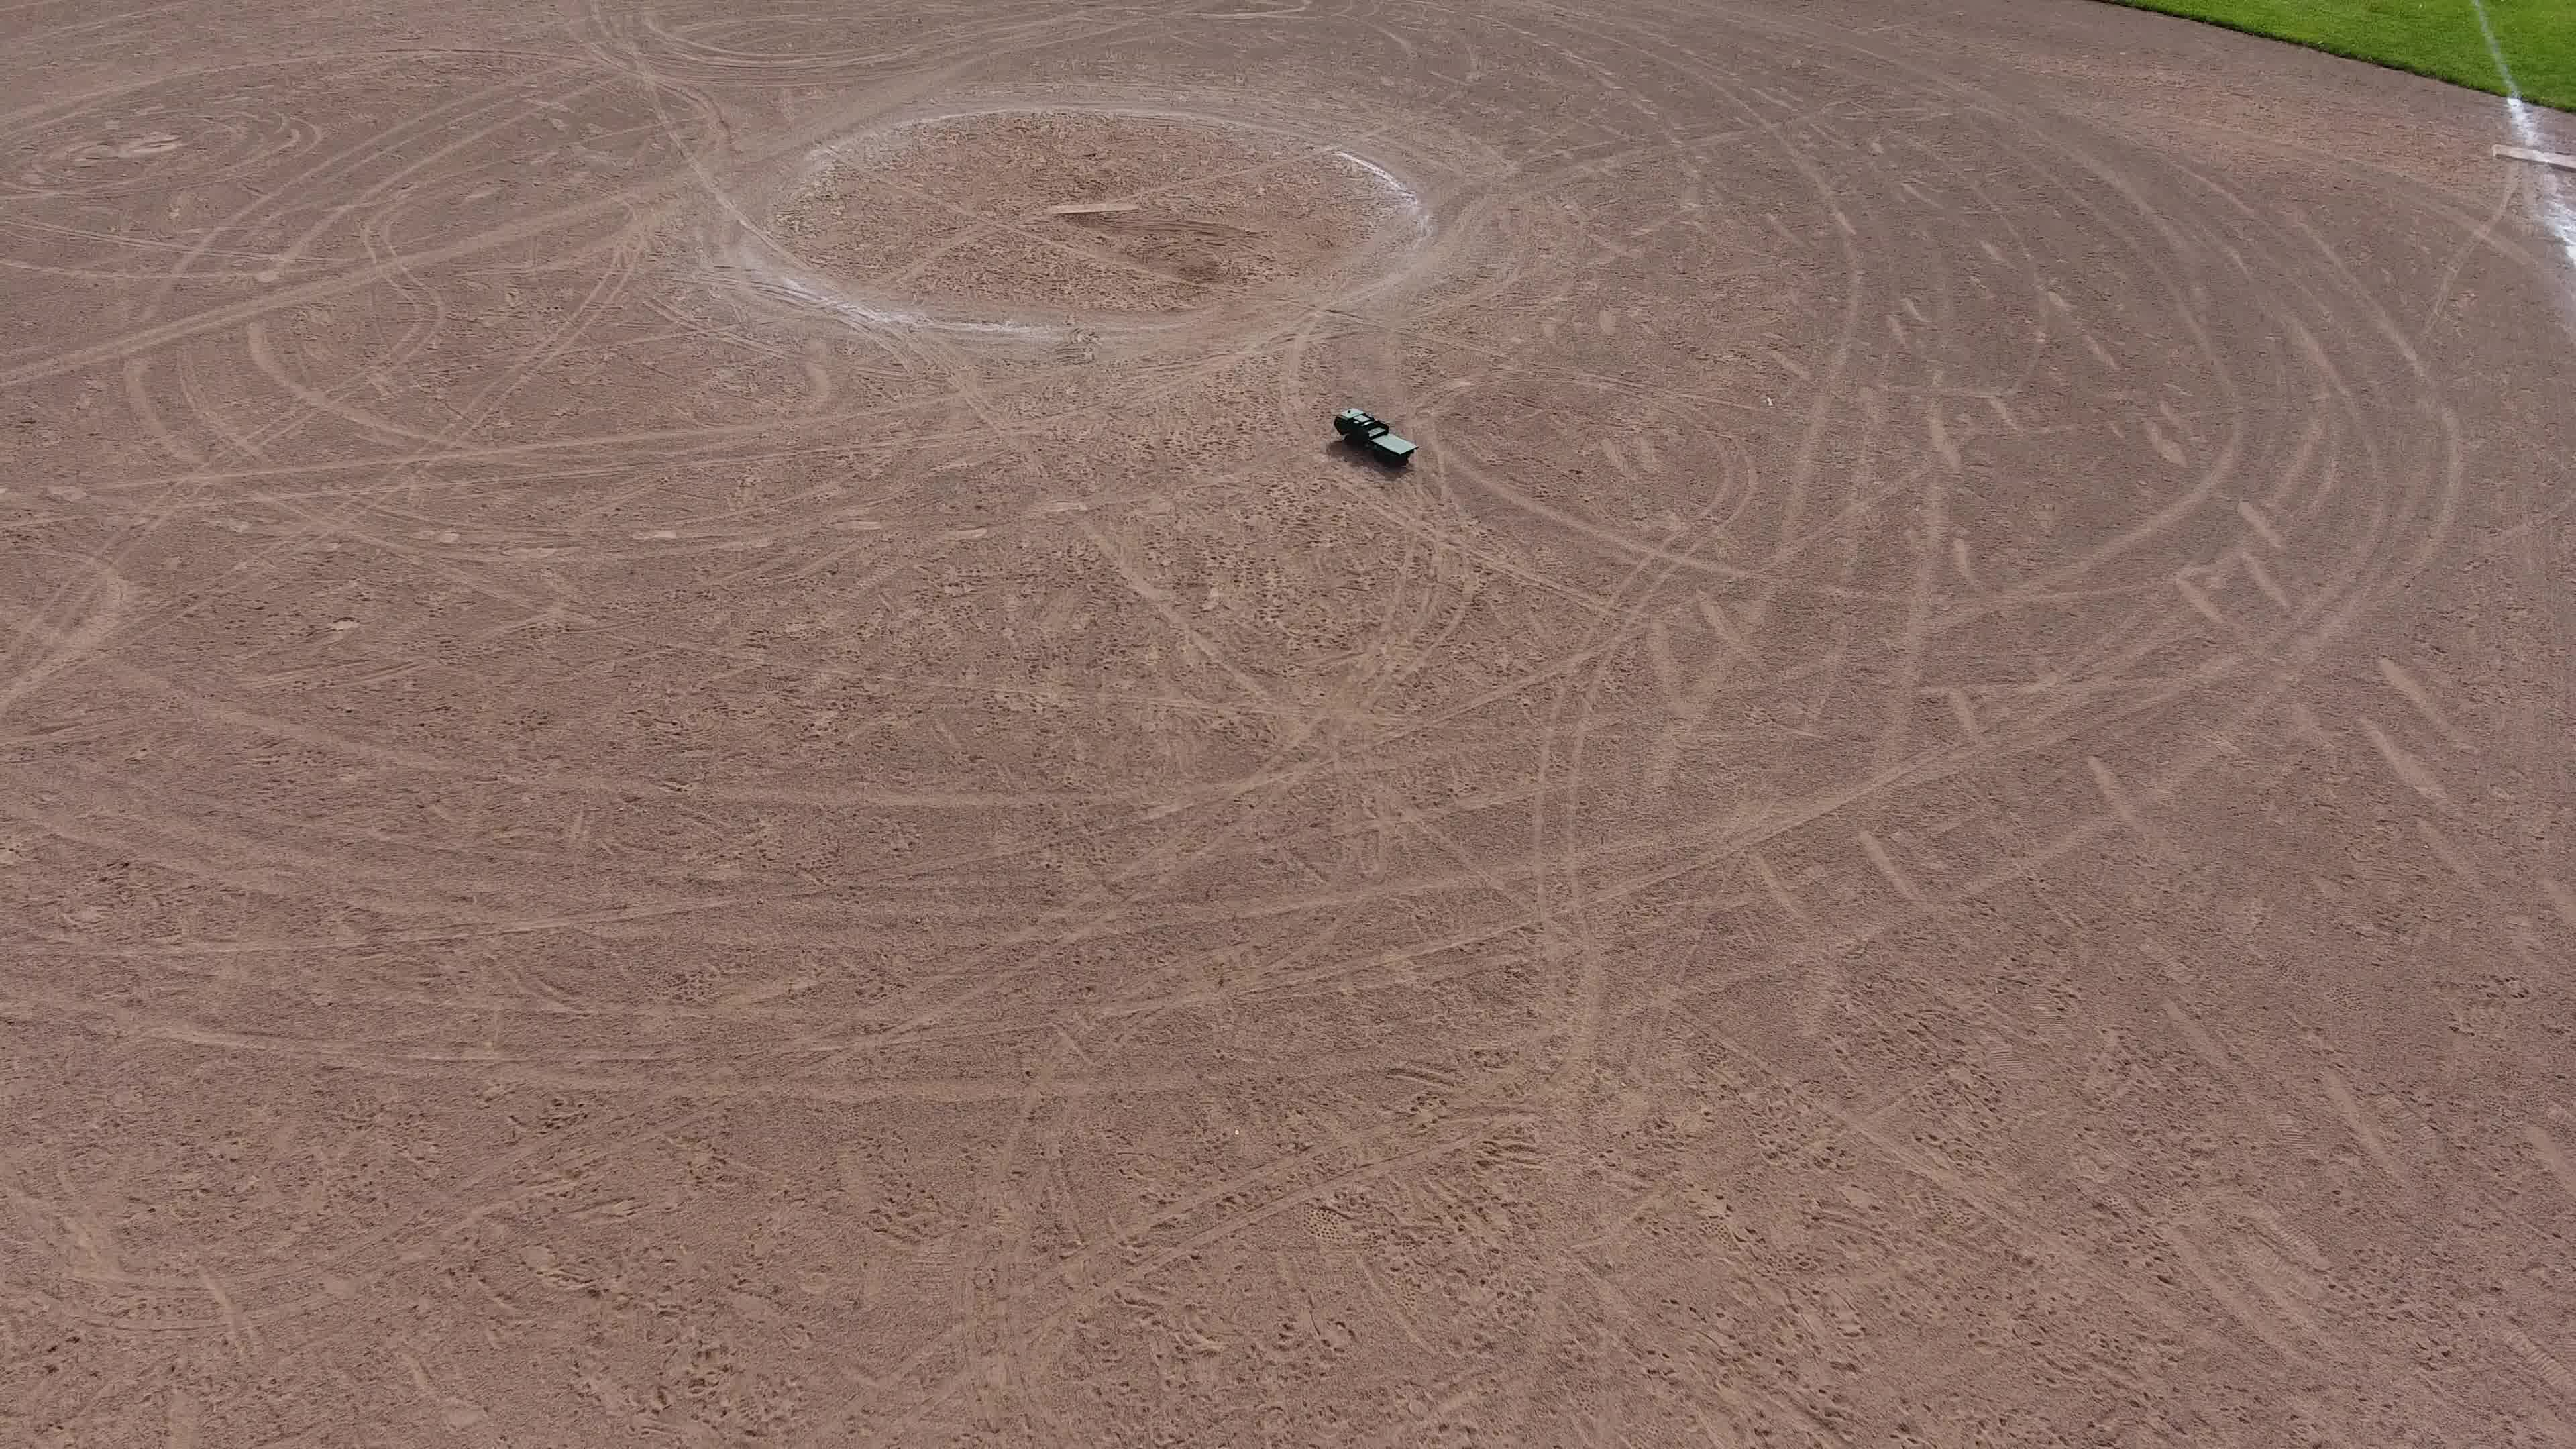transporter9: (1330, 403, 1422, 476)
